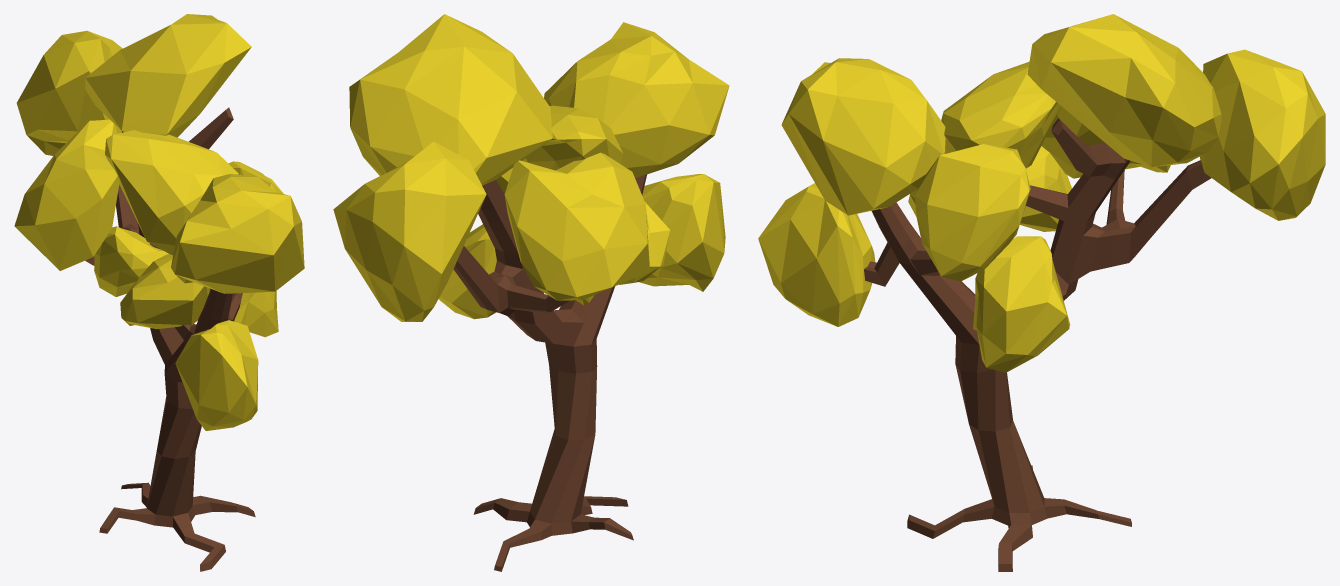
3 views of the same model, side by side, from view 1: azimuth 30°, elevation 25°; view 2: azimuth 150°, elevation 25°; view 3: azimuth 270°, elevation 25° (orthographic). The views are drawn at different scales.
Visible parts, largest first — view 1: t1-yellow; view 2: t1-yellow; view 3: t1-yellow.
Part boxes in pixels (x1=…): t1-yellow: x1=14, y1=14, x2=304, y2=571; t1-yellow: x1=333, y1=14, x2=729, y2=571; t1-yellow: x1=758, y1=14, x2=1325, y2=571.
Size of the model in its own units: 606 by 1175 by 1101.
